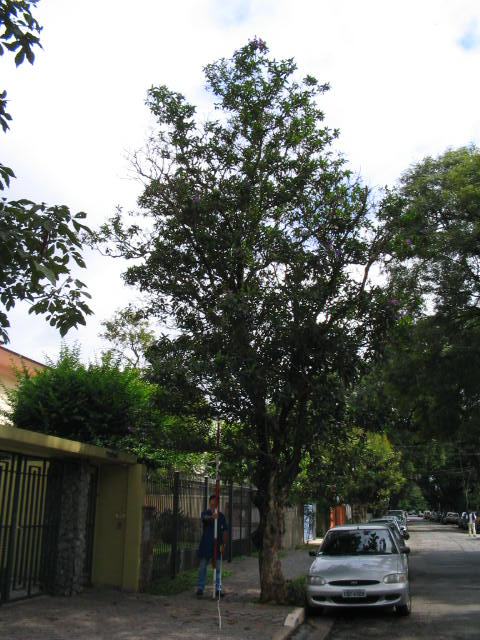crown: (102, 36, 418, 479)
stem: (241, 493, 307, 604)
stick: (204, 422, 231, 599)
tree: (99, 36, 420, 606)
